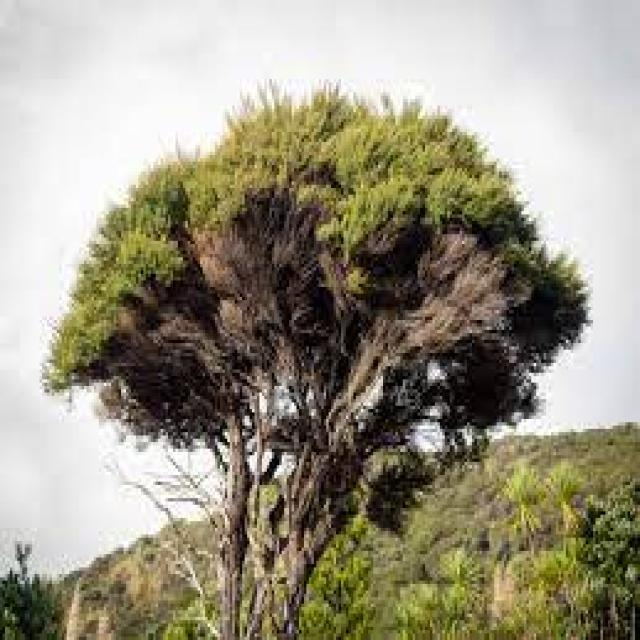Manuka: (46, 93, 596, 634)
